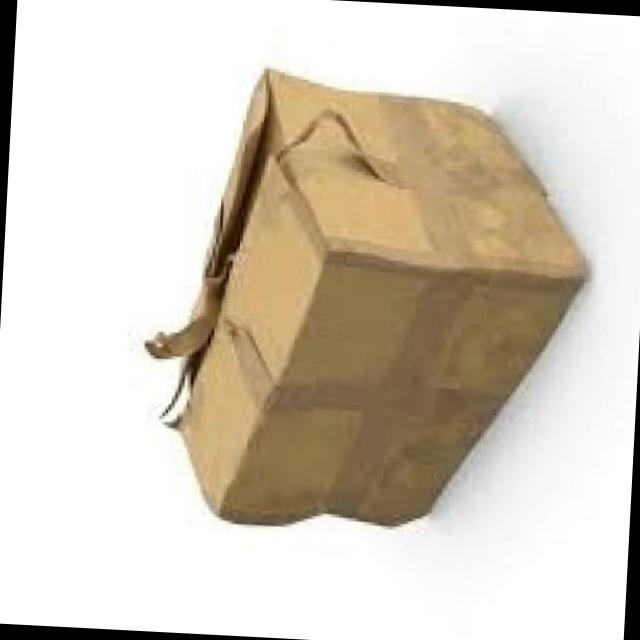cardboard paper: (144, 70, 581, 523)
